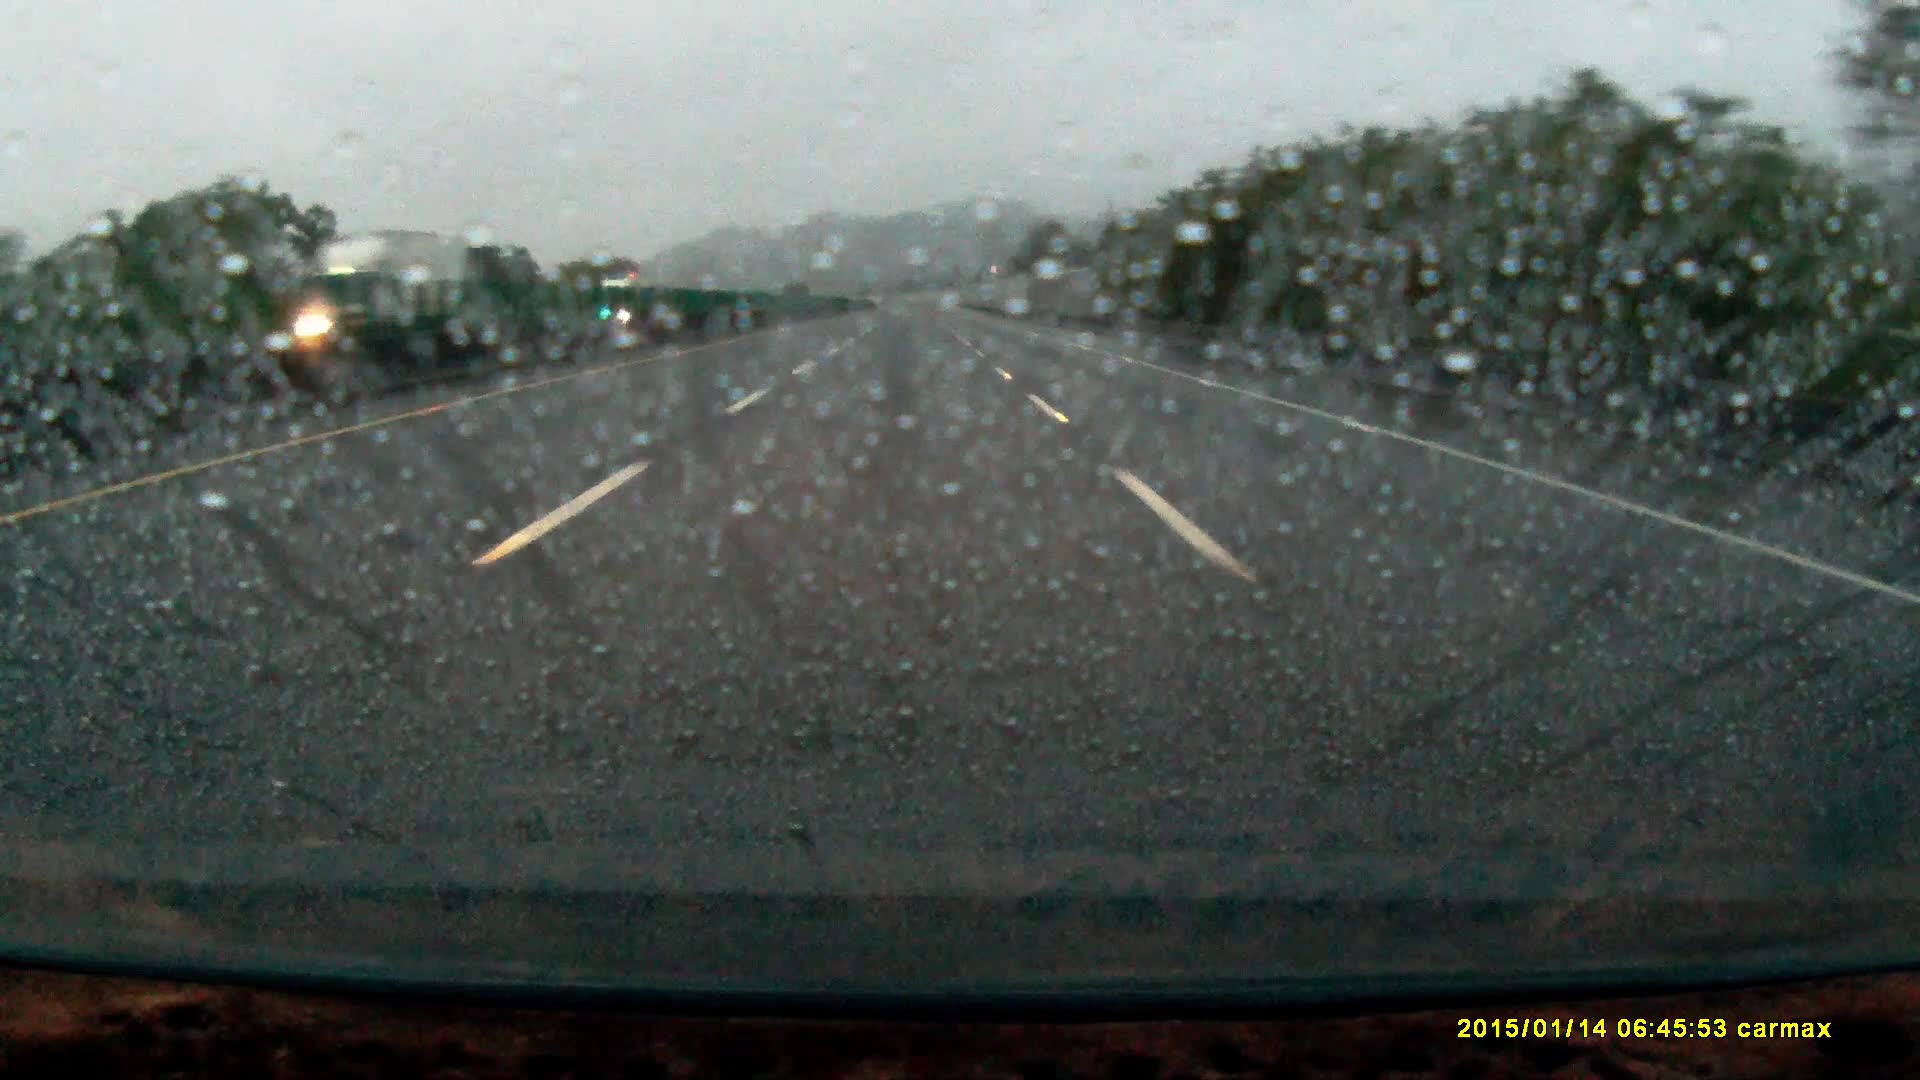vehicle: (284, 225, 488, 371), (597, 273, 658, 319)
